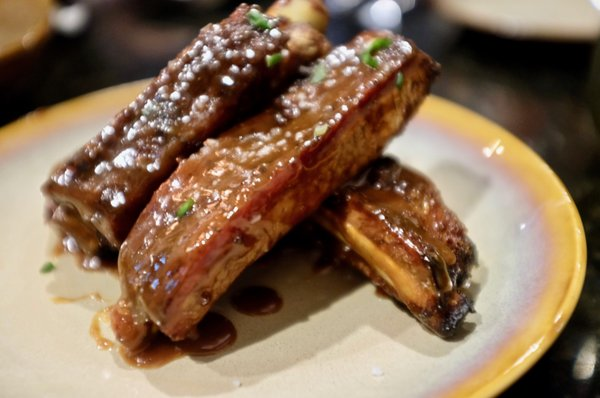curry: (14, 2, 594, 392)
